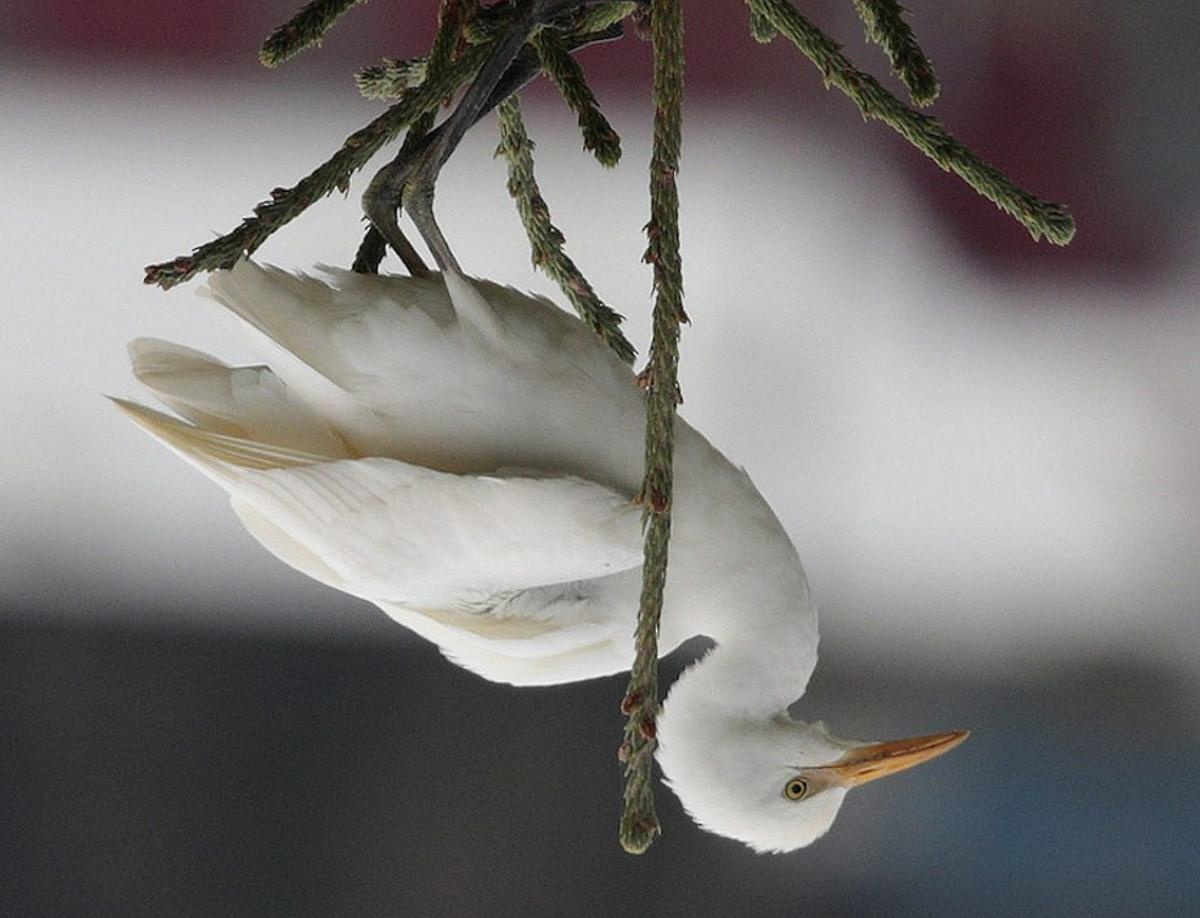egret: (118, 190, 981, 867)
